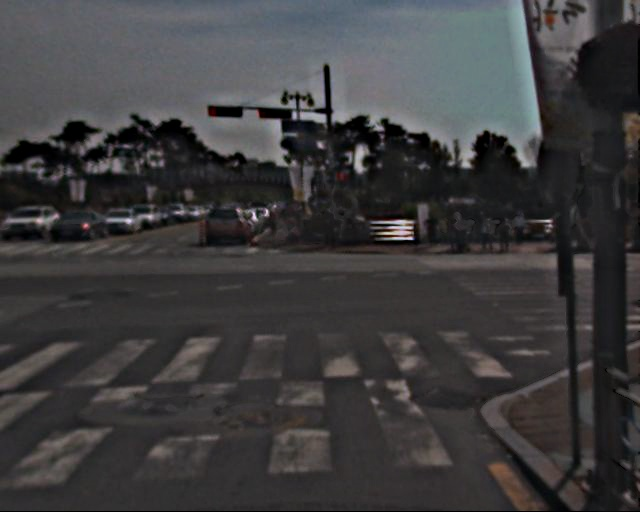person: (267, 202, 311, 242), (324, 204, 343, 251), (500, 211, 518, 256), (482, 212, 500, 256), (451, 208, 469, 251), (426, 208, 443, 250), (515, 206, 532, 247)
